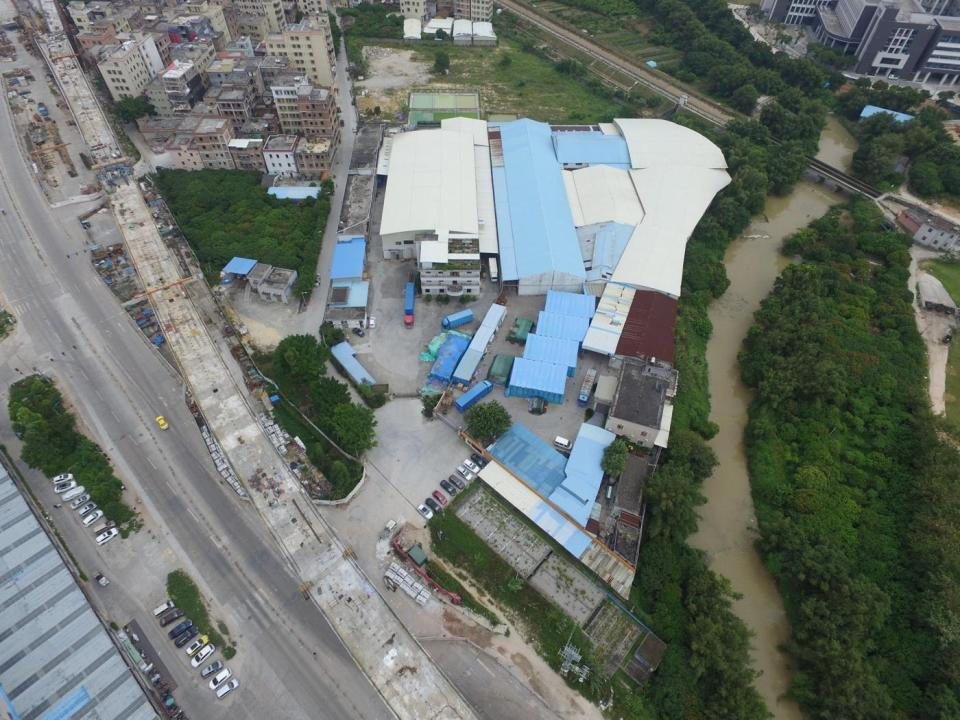car: (166, 618, 192, 642), (185, 634, 211, 658), (190, 642, 214, 666), (208, 666, 230, 690), (200, 660, 224, 680), (174, 627, 197, 647), (160, 609, 184, 627), (60, 486, 86, 502), (70, 493, 92, 511), (82, 510, 104, 528), (95, 528, 118, 545), (92, 519, 116, 535), (469, 452, 488, 470), (424, 496, 442, 513), (439, 479, 457, 496), (455, 464, 472, 481), (416, 503, 434, 519), (462, 458, 480, 474), (54, 480, 77, 492), (51, 472, 73, 484), (449, 472, 464, 489), (79, 503, 97, 517), (154, 415, 169, 431), (554, 448, 571, 461), (432, 490, 447, 504), (352, 327, 365, 338), (368, 316, 376, 329), (313, 273, 320, 287), (339, 120, 345, 128), (352, 126, 357, 133), (336, 106, 341, 113), (345, 65, 349, 72), (351, 100, 355, 106)
truck: (454, 379, 494, 414), (440, 309, 475, 331), (577, 367, 596, 407), (404, 281, 415, 329)
van: (215, 678, 239, 700), (153, 600, 175, 618), (553, 435, 572, 450)
